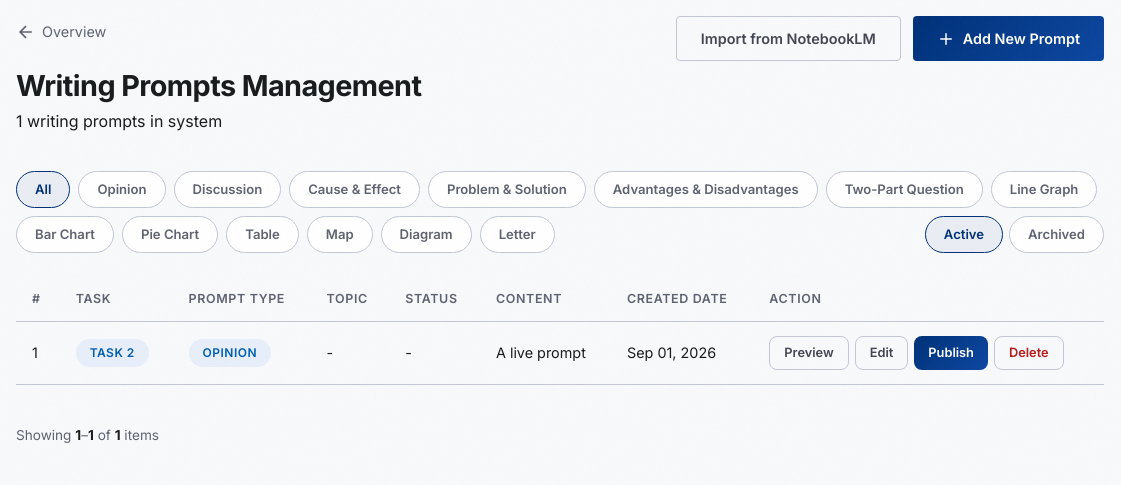
it: AdminWritingPromptsPage archived view › lists archived prompts and restores one back into the active list
The width and height of the screenshot is (1121, 485).
Check: the text "A live prompt" is shown, box [480,322,611,385]
Check: the text "Restore" is not shown
Click the button "Archived" at (1057, 234), box [1009,216,1104,253]
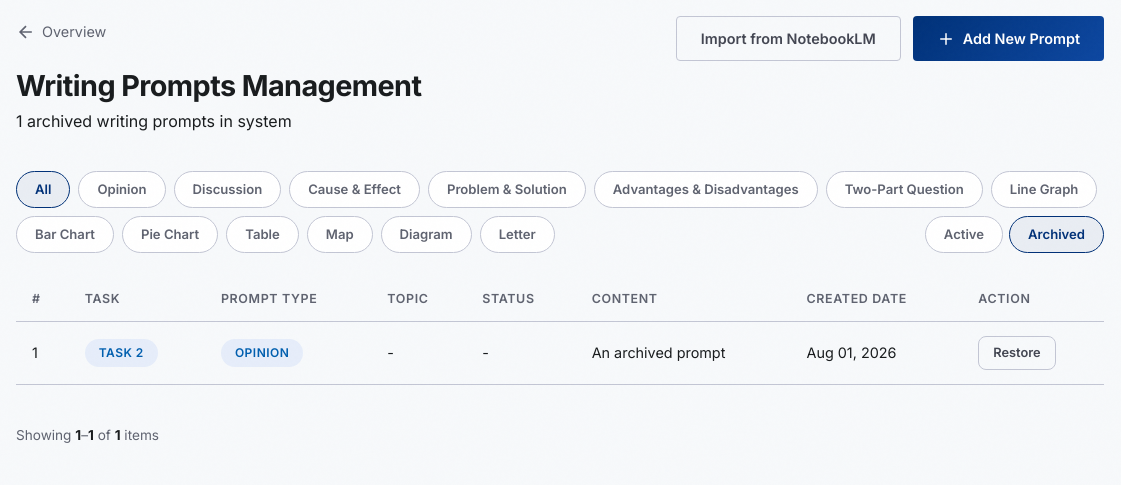
Check: the text "An archived prompt" is shown, box [576,322,790,385]
Check: the button "Edit" is gone
Click the button "Restore" at (1017, 353), box [978,336,1056,370]
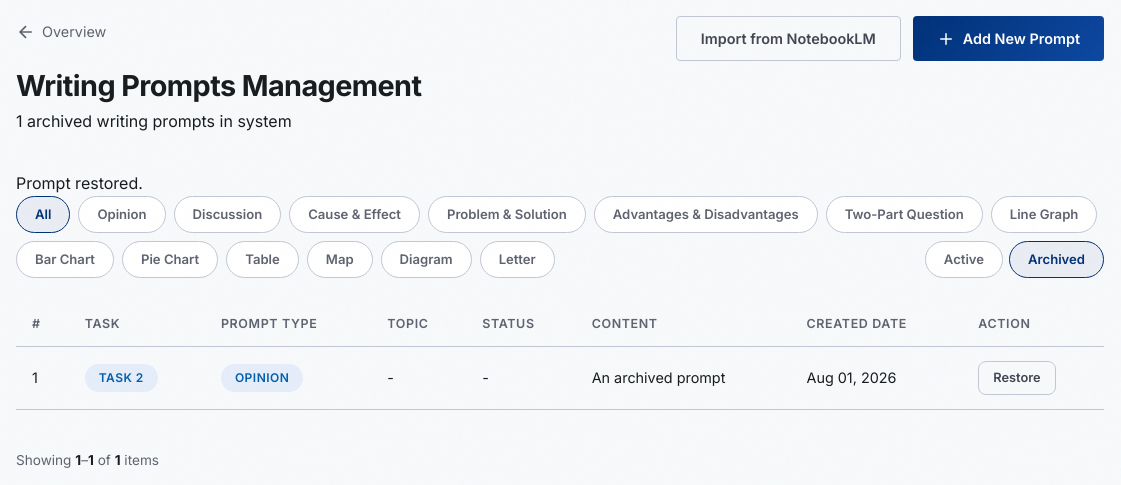
Check: the text "Prompt restored." is shown, box [16,173,143,193]
